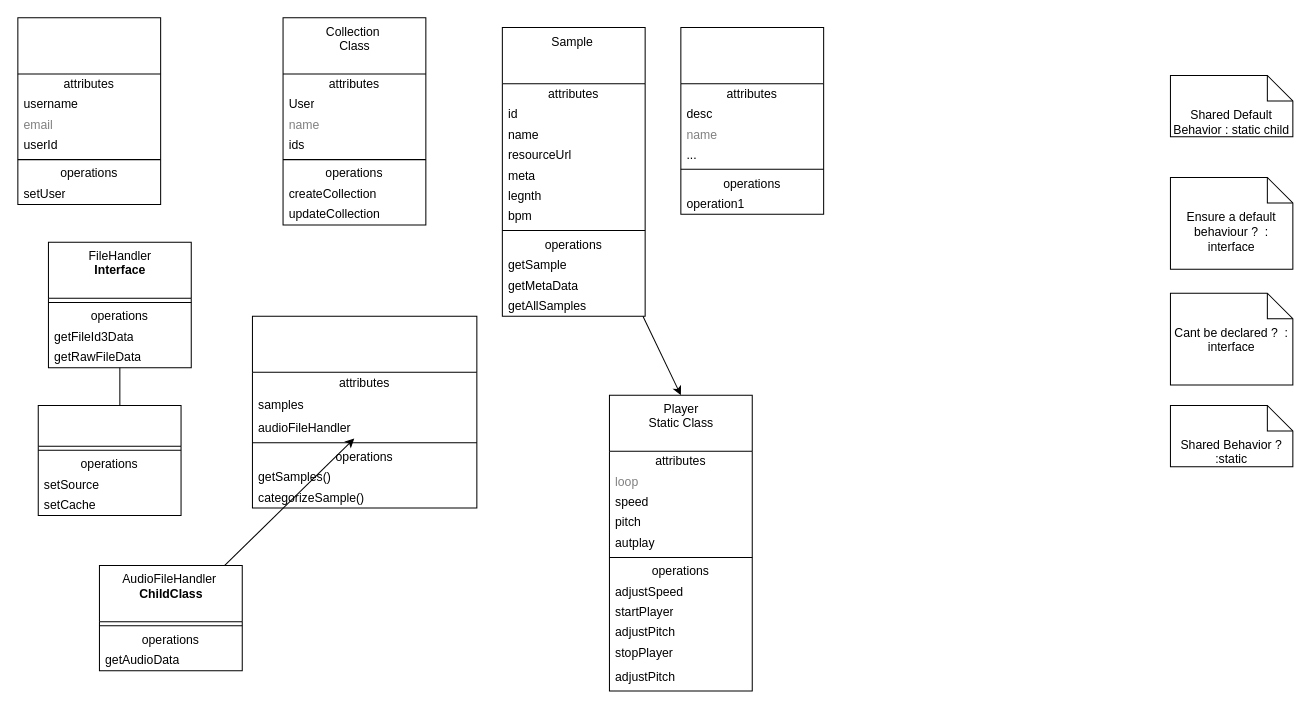
This 1311x709 diagram has some shape labels left out. Each missing label, with the box of its shape:
FileHandler Class: (37, 404, 181, 516)
Library Implements Filehandler: (251, 315, 477, 508)
Splice Class Abstract: (680, 27, 824, 214)
User Class: (17, 17, 161, 205)
